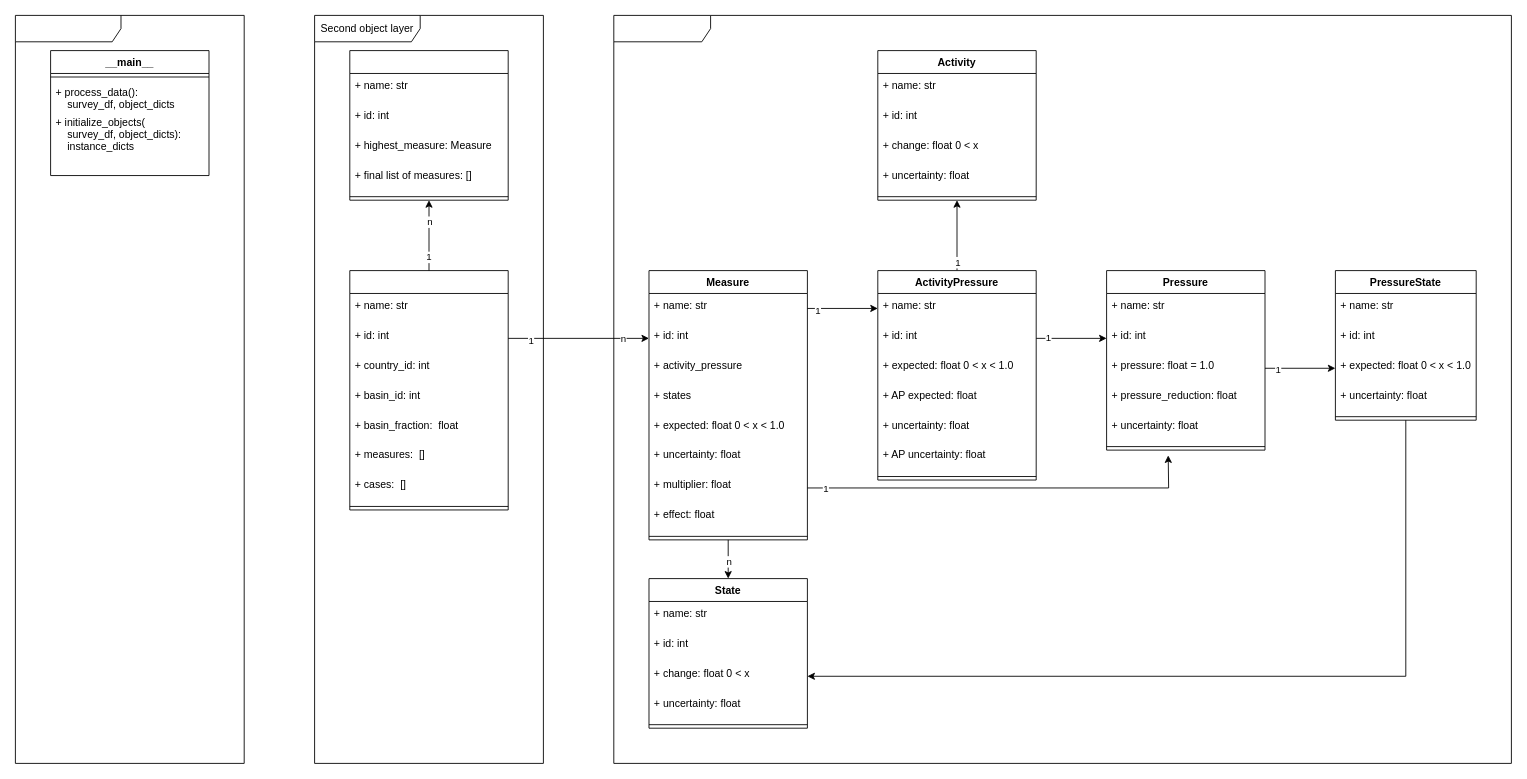
Image size: 1527x779. Some labels were removed from this diagram. The shapes that lost their labels are listed below. From the top down, each one's box as (x1, y1, x2, y2) in pixels, then its label:
(349, 50, 508, 200): Case
(15, 15, 244, 763): Business logic
(349, 270, 508, 510): CountryBasin
(613, 15, 1511, 763): Core objects
